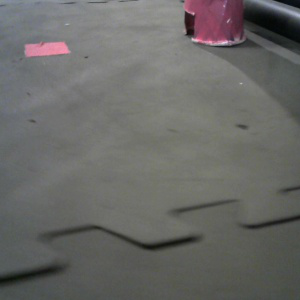Right: (181, 1, 248, 47)
